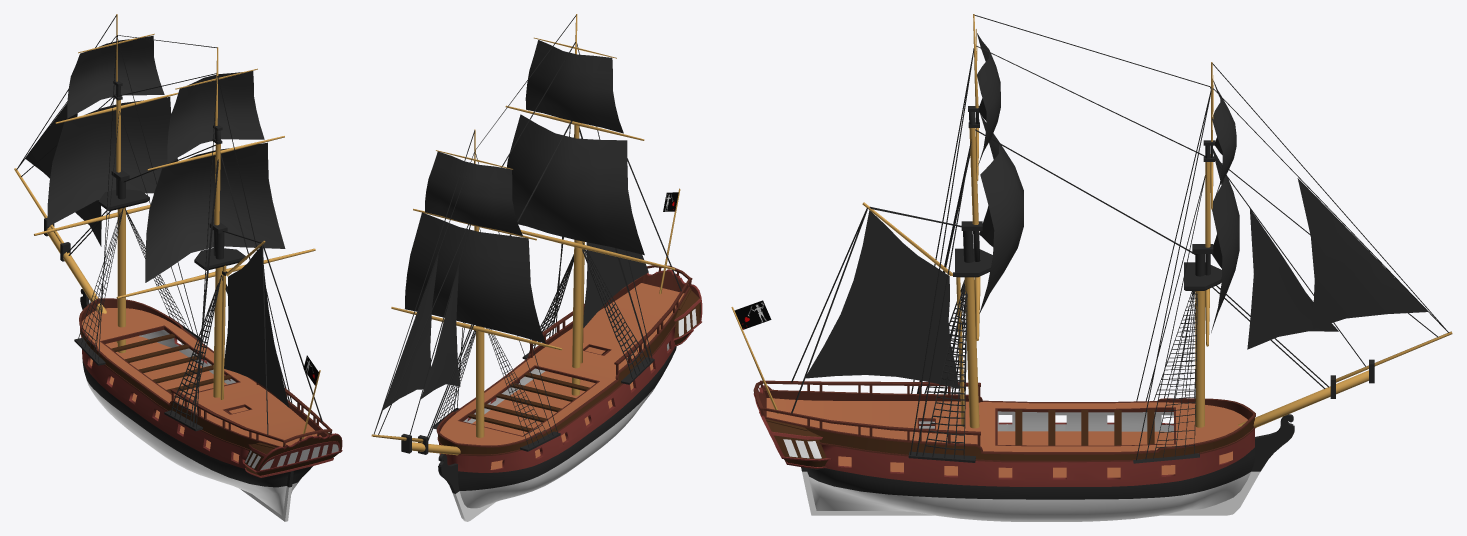
The model's file is PIRATESHIP.fbx.
The picture shows the model from 3 angles, left to right: view 1: azimuth 30°, elevation 25°; view 2: azimuth 150°, elevation 25°; view 3: azimuth 270°, elevation 25°; orthographic projection. The views are drawn at different scales.
Visible parts, largest first — view 1: Sails, Hull, Rigging, Mainmast, Foremast, Cabin, Rails, Bowsprit, Mizzenmast.003, Bulwarks; view 2: Sails, Hull, Rigging, Mainmast, Foremast, Cabin, Rails, Bowsprit, Bulwarks; view 3: Hull, Sails, Rigging, Mainmast, Foremast, Cabin, Rails, Bowsprit, Mizzenmast.003.
Part boxes in pixels (x1=…): Sails: x1=25, y1=35, x2=289, y2=407; Hull: x1=79, y1=289, x2=327, y2=521; Rigging: x1=16, y1=15, x2=322, y2=434; Mainmast: x1=116, y1=47, x2=315, y2=397; Foremast: x1=34, y1=14, x2=178, y2=353; Cabin: x1=242, y1=432, x2=342, y2=477; Rails: x1=170, y1=382, x2=332, y2=447; Bowsprit: x1=14, y1=168, x2=117, y2=343; Mizzenmast.003: x1=220, y1=240, x2=265, y2=399; Bulwarks: x1=74, y1=316, x2=294, y2=431; Sails: x1=383, y1=40, x2=648, y2=409; Hull: x1=436, y1=275, x2=690, y2=521; Rigging: x1=373, y1=15, x2=681, y2=448; Mainmast: x1=505, y1=14, x2=675, y2=395; Foremast: x1=391, y1=129, x2=562, y2=437; Cabin: x1=641, y1=269, x2=702, y2=346; Rails: x1=529, y1=265, x2=692, y2=374; Bowsprit: x1=371, y1=434, x2=460, y2=455; Bulwarks: x1=432, y1=353, x2=654, y2=451; Hull: x1=764, y1=389, x2=1294, y2=521; Sails: x1=806, y1=33, x2=1427, y2=388; Rigging: x1=791, y1=14, x2=1448, y2=460; Mainmast: x1=955, y1=14, x2=992, y2=428; Foremast: x1=1184, y1=62, x2=1221, y2=427; Cabin: x1=753, y1=385, x2=831, y2=469; Rails: x1=753, y1=380, x2=980, y2=446; Bowsprit: x1=1238, y1=331, x2=1452, y2=427; Mizzenmast.003: x1=862, y1=202, x2=964, y2=426.
Size of the model in its own units: 1752 by 3589 by 4686.
11 materials, 1 textured.
